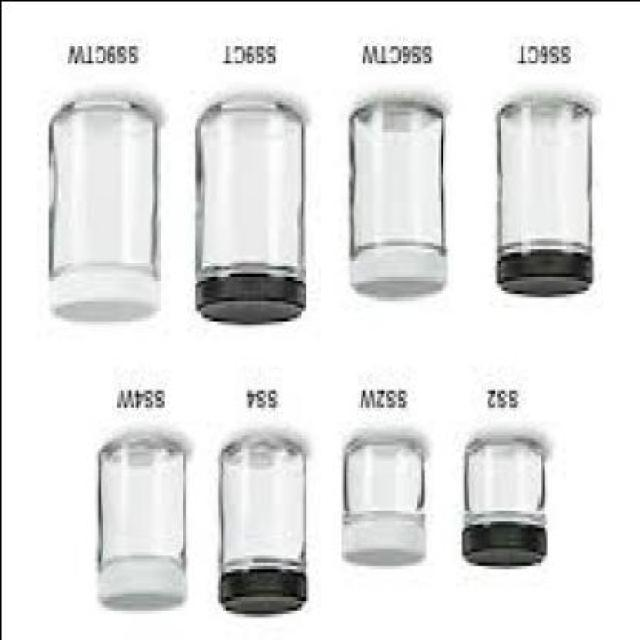GLASS: (196, 100, 304, 278), (50, 99, 156, 279), (349, 100, 445, 254), (498, 103, 591, 259), (100, 437, 188, 575), (222, 441, 308, 572), (462, 437, 546, 526), (344, 437, 428, 523)
METAL: (54, 268, 158, 324), (351, 245, 447, 303), (198, 279, 310, 323), (101, 557, 187, 612), (222, 567, 309, 616), (498, 252, 593, 296), (462, 523, 548, 568), (342, 526, 427, 568)
